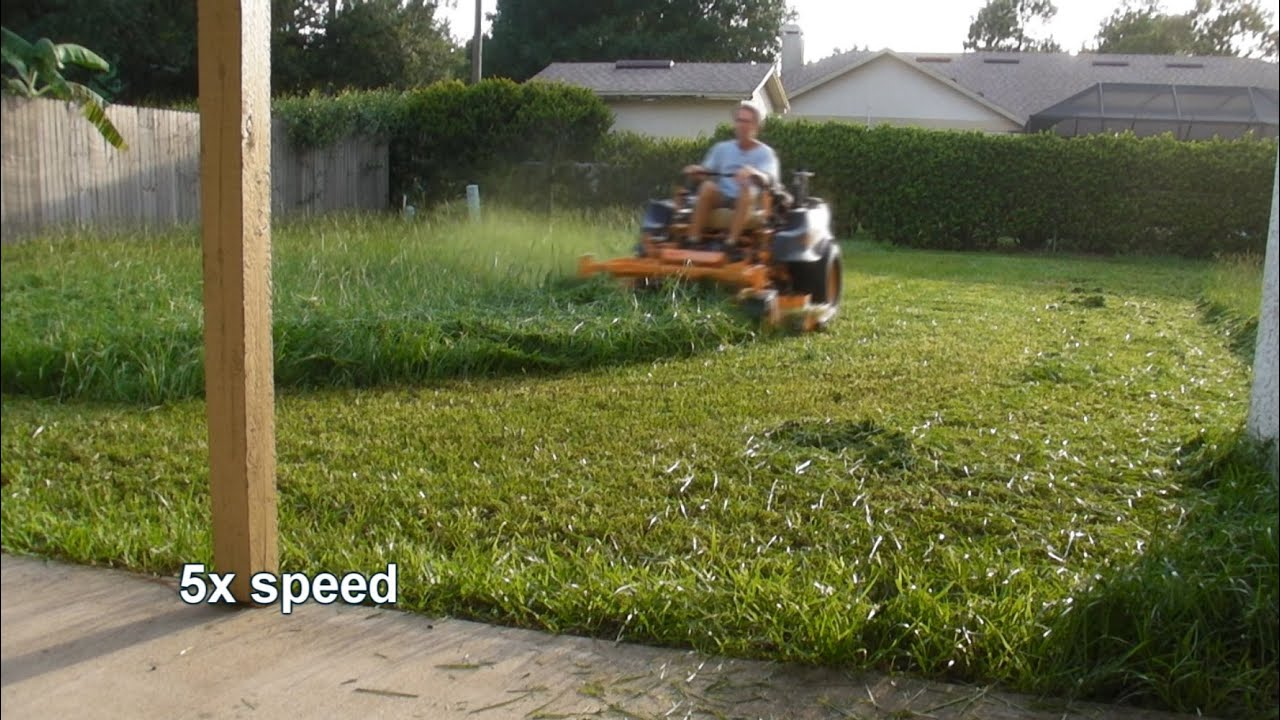grass: (287, 334, 1245, 560)
